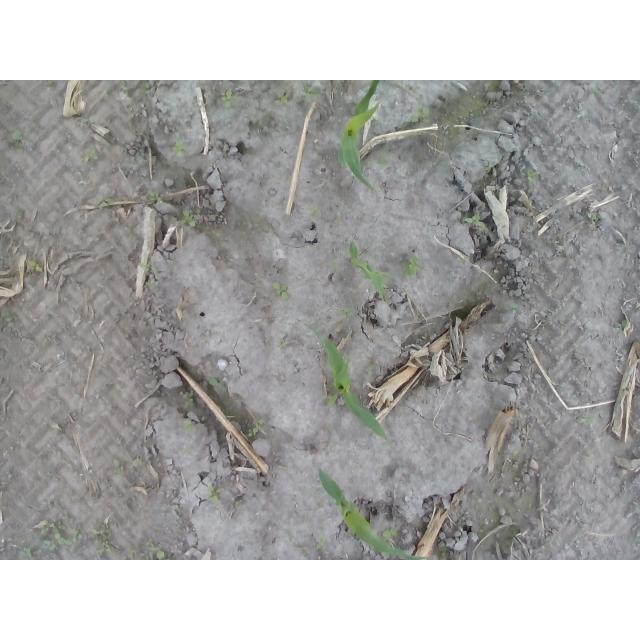Maize: (316, 466, 430, 560), (319, 334, 389, 442), (339, 80, 382, 192), (347, 240, 387, 301)
Weeds: (40, 520, 84, 552), (90, 528, 114, 556), (462, 211, 488, 232), (148, 540, 173, 561), (179, 207, 201, 228), (402, 253, 419, 278), (220, 87, 240, 107), (80, 143, 97, 166), (272, 279, 289, 301), (415, 104, 433, 124), (247, 419, 265, 438), (179, 390, 195, 410), (272, 87, 288, 107), (137, 80, 155, 96), (315, 529, 328, 551), (12, 129, 25, 150), (302, 83, 321, 97), (0, 306, 16, 322), (340, 304, 356, 320), (17, 546, 35, 560), (208, 483, 221, 501), (382, 526, 400, 539), (581, 415, 599, 428), (174, 143, 186, 162), (96, 196, 113, 209), (616, 320, 629, 337), (29, 257, 43, 272), (129, 159, 148, 170), (208, 228, 224, 241), (504, 302, 521, 314), (115, 462, 125, 482), (179, 419, 193, 433), (143, 262, 159, 274), (150, 191, 163, 205), (143, 279, 161, 289), (119, 80, 129, 97), (588, 212, 601, 225), (527, 170, 538, 185), (482, 160, 494, 173), (309, 324, 320, 337), (275, 338, 286, 351), (366, 366, 374, 383), (207, 376, 221, 385), (307, 208, 321, 217), (375, 158, 385, 170), (16, 207, 25, 220), (455, 256, 465, 266), (231, 500, 241, 510), (88, 80, 96, 89), (440, 552, 448, 560), (303, 552, 310, 560)
